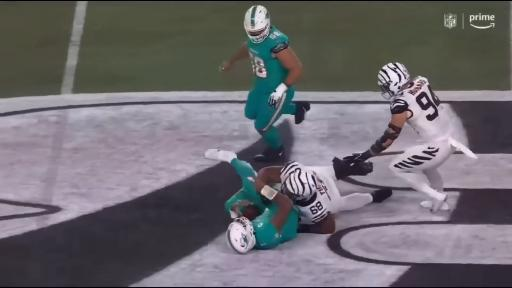Helmet: (378, 63, 410, 99), (227, 217, 255, 253), (282, 169, 317, 197), (244, 6, 270, 43)
Jersey: (391, 76, 451, 142), (280, 162, 339, 223), (248, 26, 289, 92), (252, 204, 298, 249)
Player: (345, 63, 476, 212), (220, 6, 310, 162), (259, 158, 392, 233), (205, 149, 299, 253)
